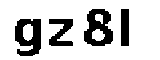8: (79, 1, 118, 49)
g: (8, 13, 44, 60)
l: (118, 5, 139, 53)
z: (45, 17, 77, 49)
